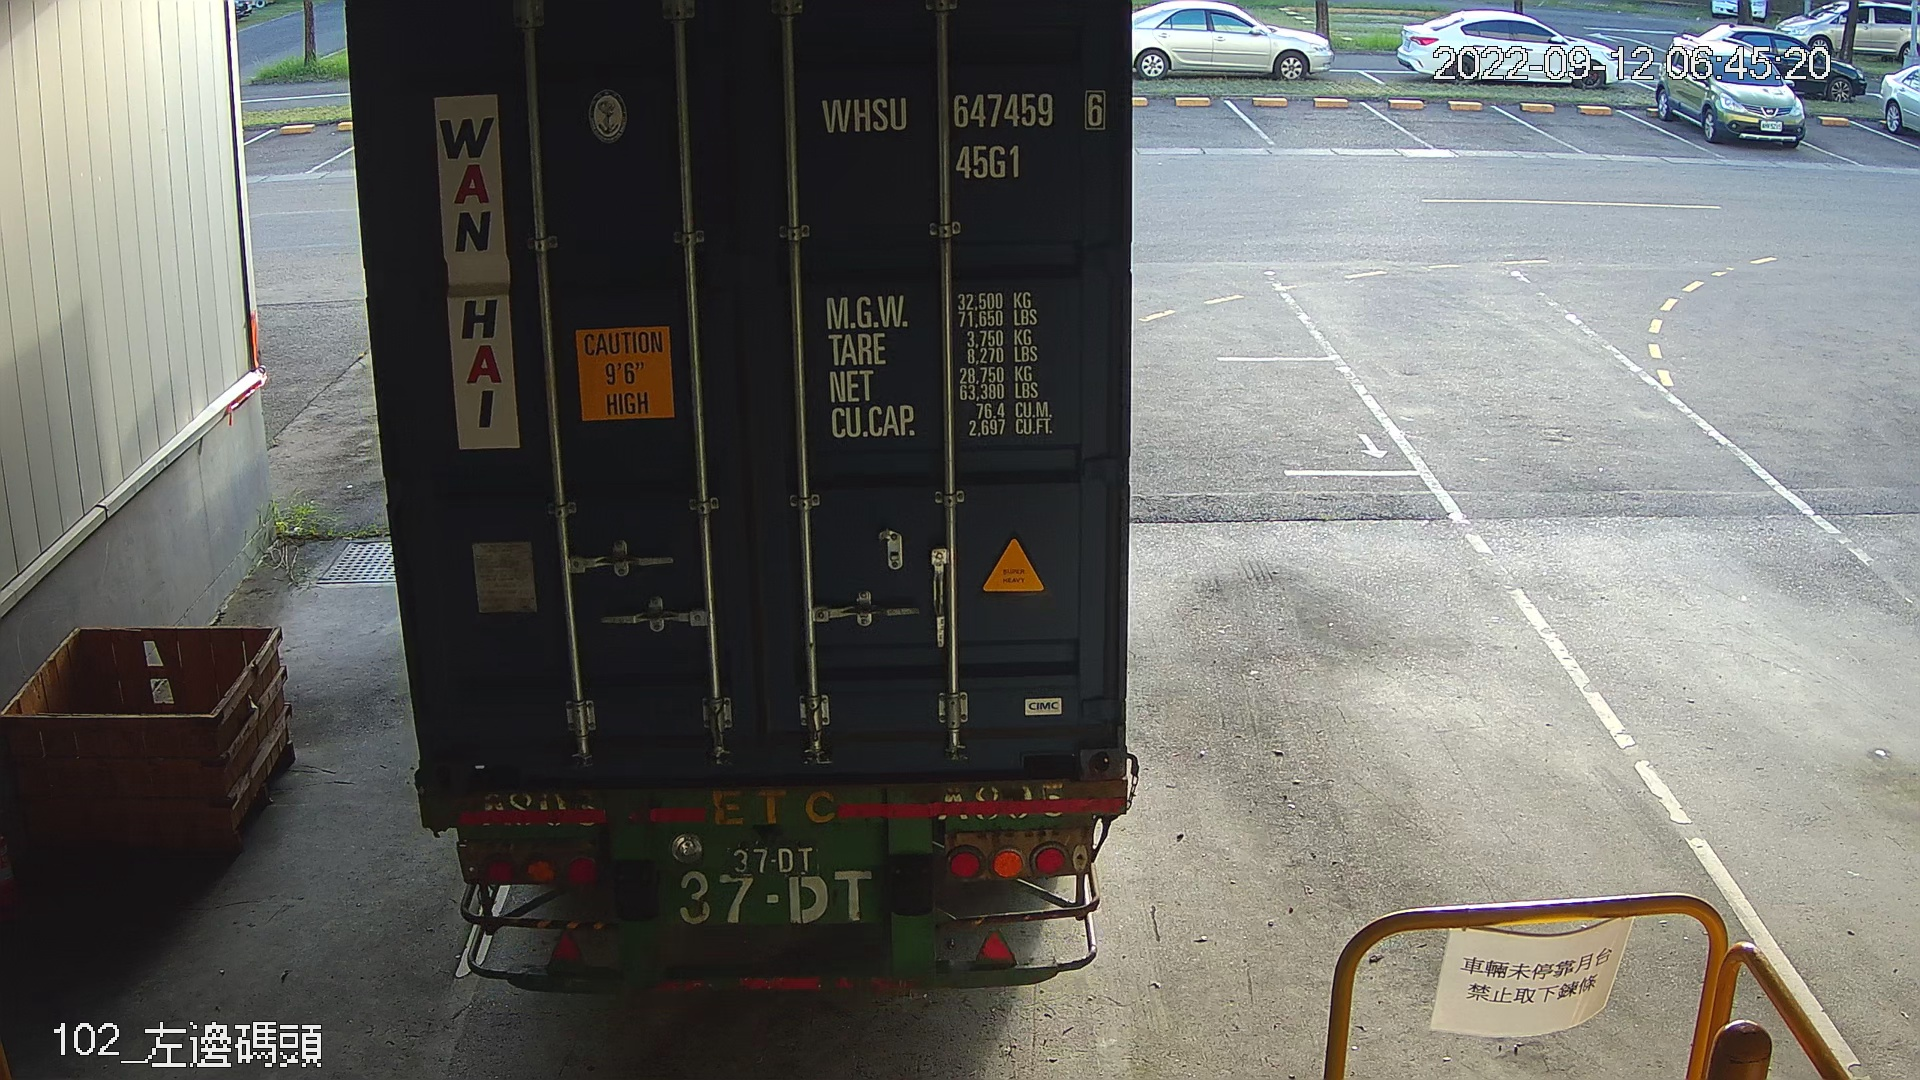container: (808, 79, 1117, 185)
